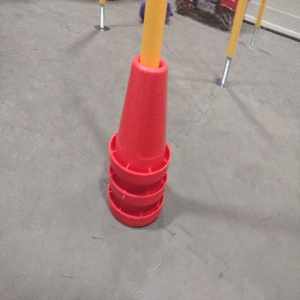Red_3: (100, 49, 173, 230)
